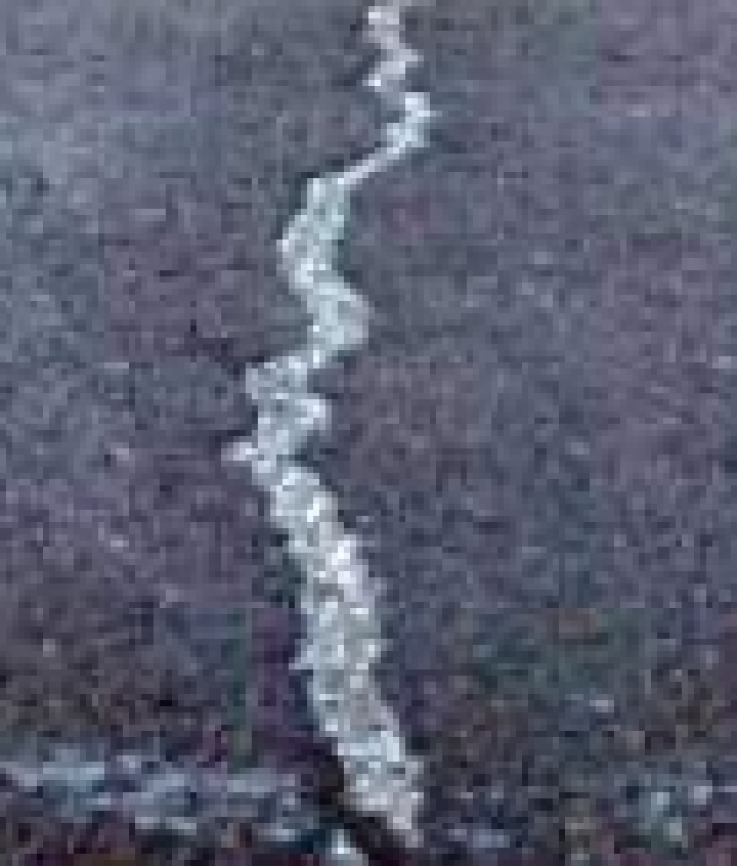Retak Memanjang: (198, 11, 469, 866)
